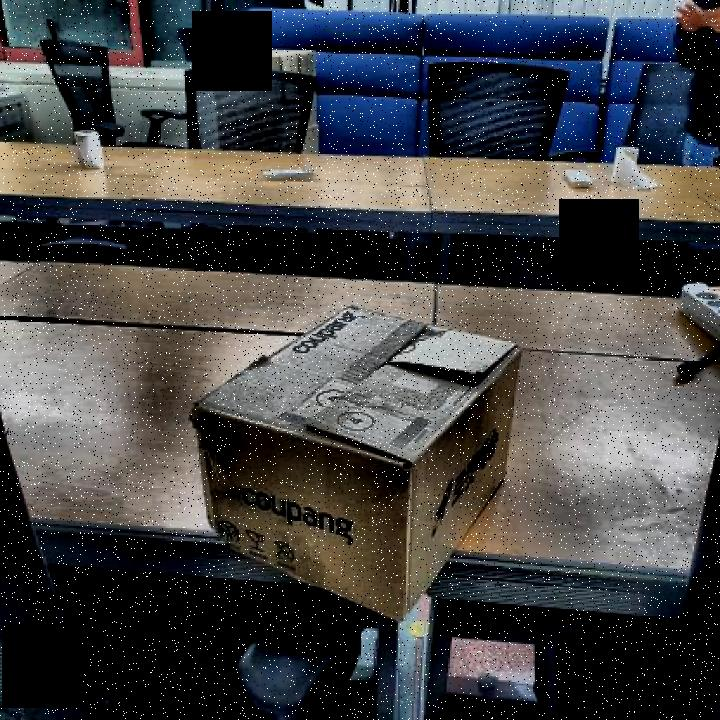box: (192, 301, 526, 635)
